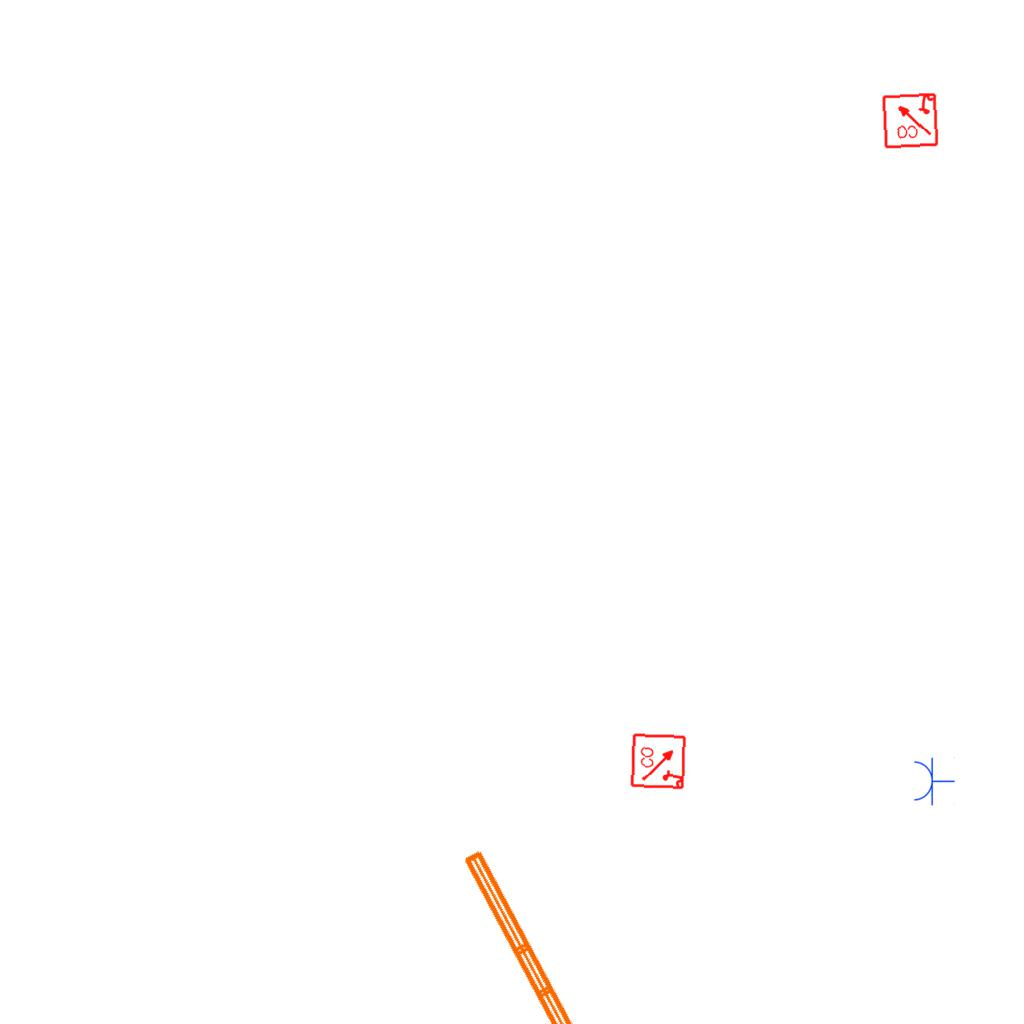Ambulanz_Pendelleuchte_LED: (455, 831, 688, 1024)
ROA_Rauchmelder_optisch_mit_Signalgeber_(Sockelsirene): (880, 90, 940, 150), (630, 732, 688, 790)
Schukosteckdose_einfach: (912, 756, 955, 806)
